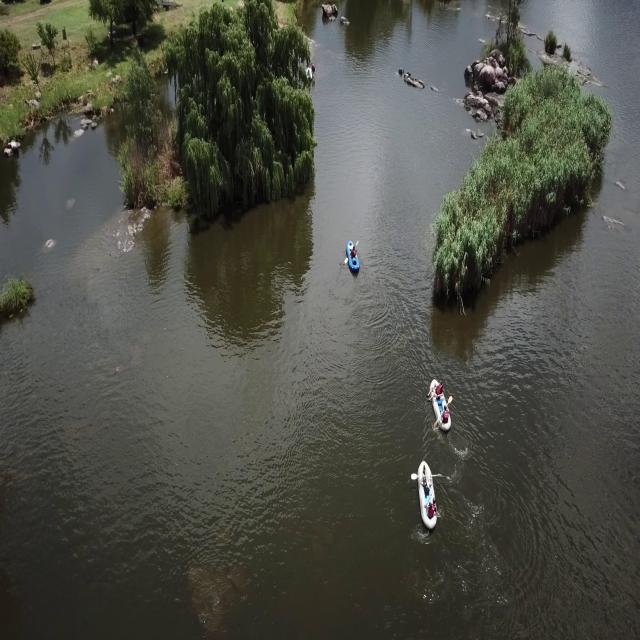kayak: (406, 459, 449, 533), (428, 378, 455, 438), (344, 238, 361, 278)
